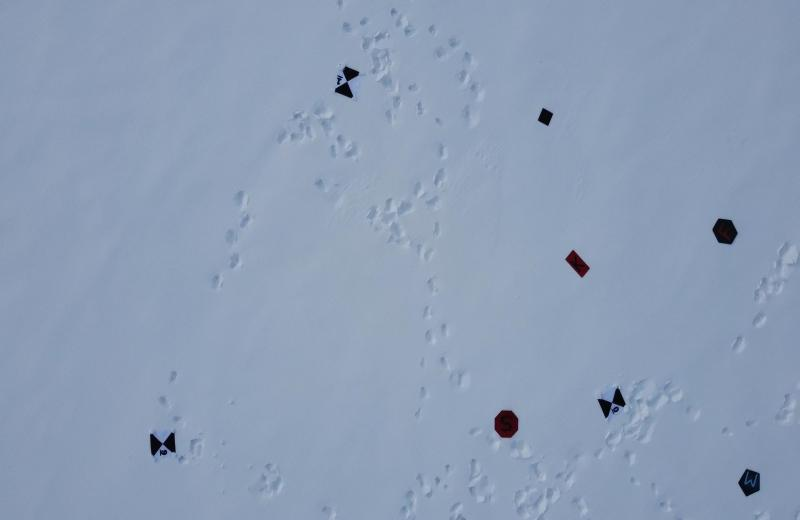Hexagon: (710, 213, 740, 252)
Octagon: (492, 404, 522, 438)
Pentagon: (735, 464, 762, 499)
Rectangle: (566, 247, 594, 281)
Square: (536, 106, 558, 130)
